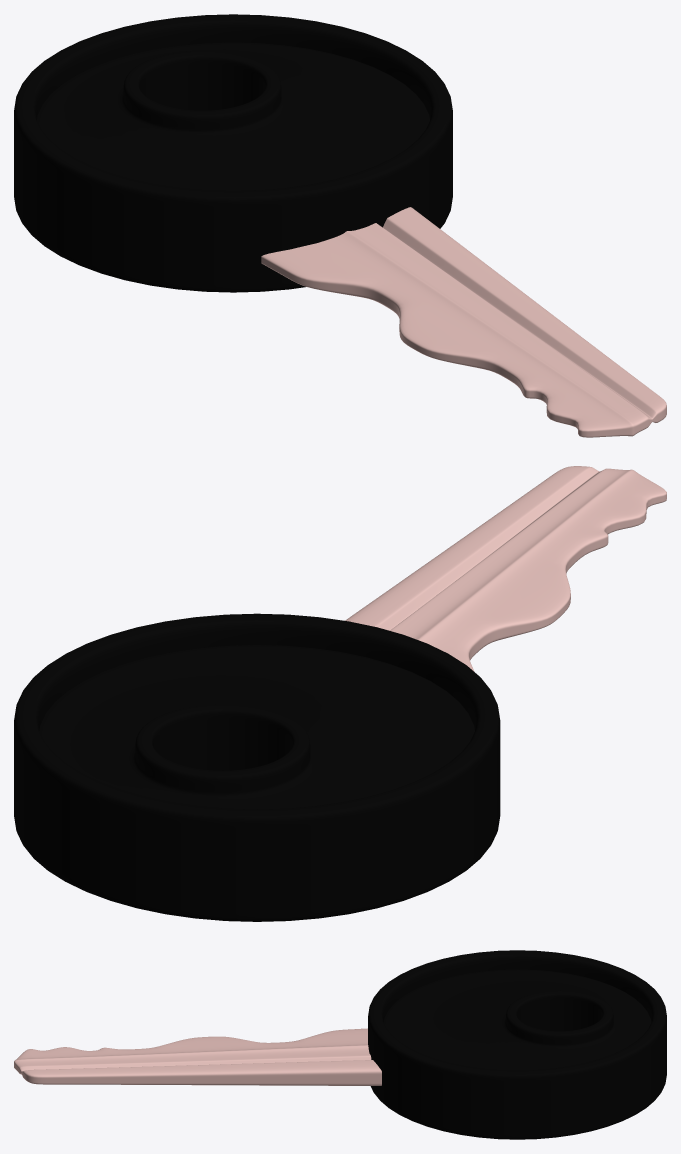
The model's file is key.fbx.
3 views of the same model, one above another, from view 1: azimuth 30°, elevation 25°; view 2: azimuth 150°, elevation 25°; view 3: azimuth 270°, elevation 25° (orthographic). The views are drawn at different scales.
Visible parts, largest first — view 1: Circle, Plane; view 2: Circle, Plane; view 3: Circle, Plane.
Part boxes in pixels (bbox=[...]): Circle: bbox=[14, 14, 452, 292]; Plane: bbox=[261, 207, 666, 437]; Circle: bbox=[14, 613, 500, 921]; Plane: bbox=[345, 466, 666, 671]; Circle: bbox=[368, 950, 666, 1139]; Plane: bbox=[14, 1028, 381, 1085].
Size of the model in its own units: 191 by 46.01 by 417.
